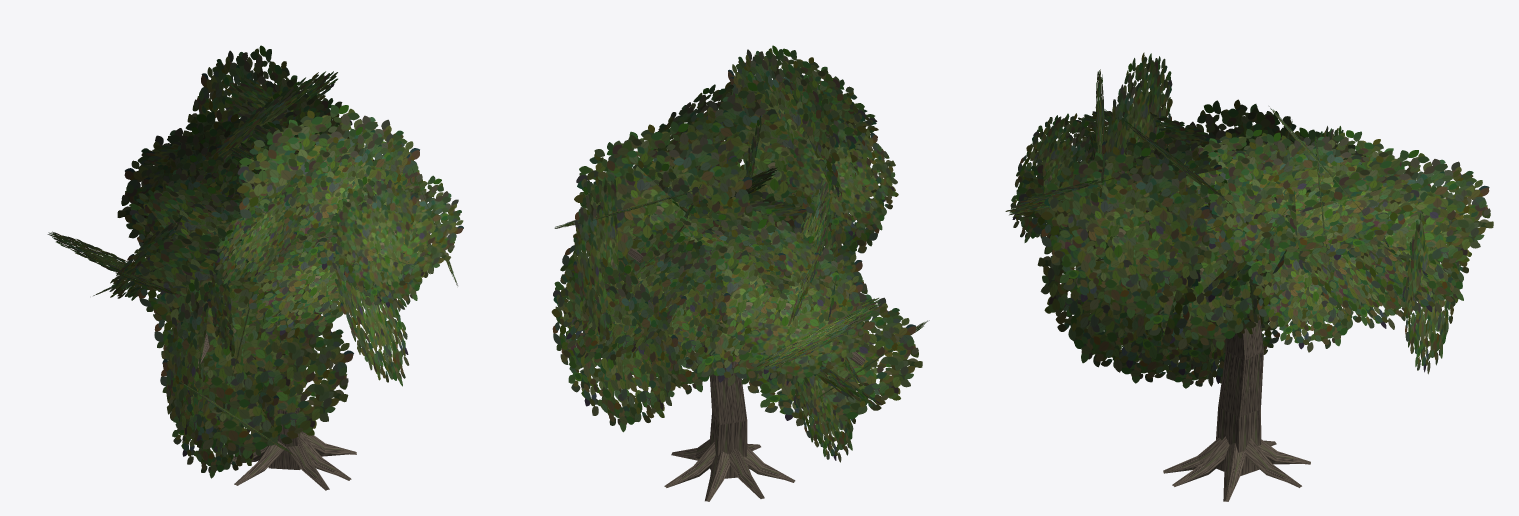
File: TwistedTree_1_LOD2.gltf
3 renders of one model, left to right at view 1: azimuth 30°, elevation 25°; view 2: azimuth 150°, elevation 25°; view 3: azimuth 270°, elevation 25°, orthographic. The views are drawn at different scales.
Visible parts, largest first — view 1: TwistedTree_1_LOD2; view 2: TwistedTree_1_LOD2; view 3: TwistedTree_1_LOD2.
Part boxes in pixels (x1,y1,x2,y2): TwistedTree_1_LOD2: (47, 45, 463, 490); TwistedTree_1_LOD2: (551, 45, 929, 501); TwistedTree_1_LOD2: (1005, 52, 1493, 501).
Bounding box in the file's own units: 16.08 × 18.08 × 20.41.
Materials: 2 (2 with a texture image).
